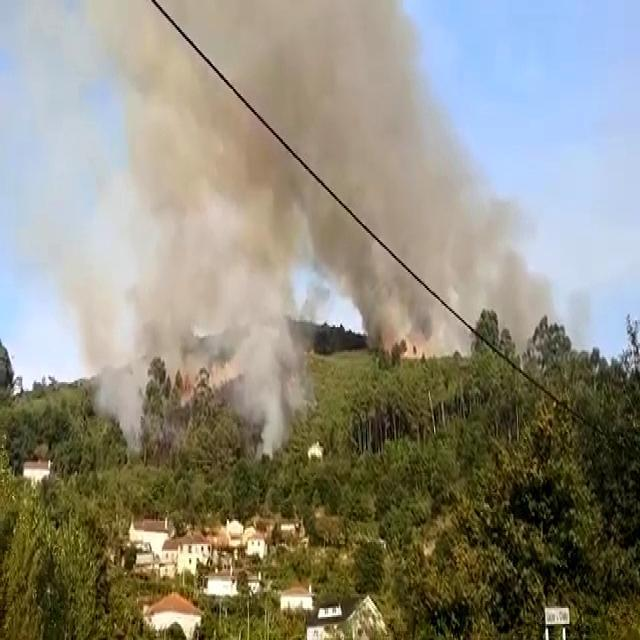Smoke: (80, 0, 323, 453), (314, 0, 554, 356)
